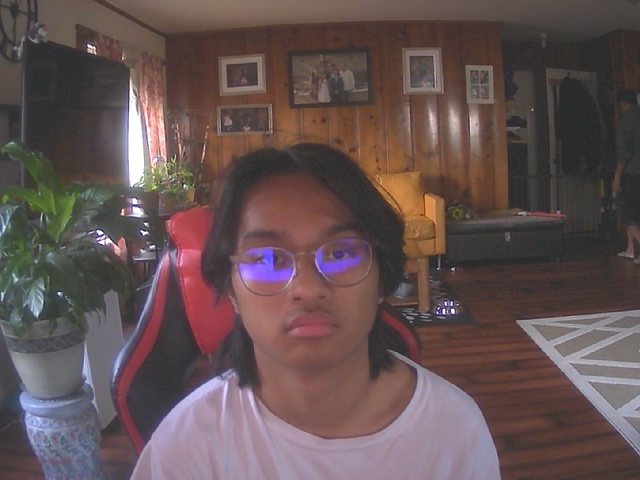neutral: (226, 152, 396, 371)
